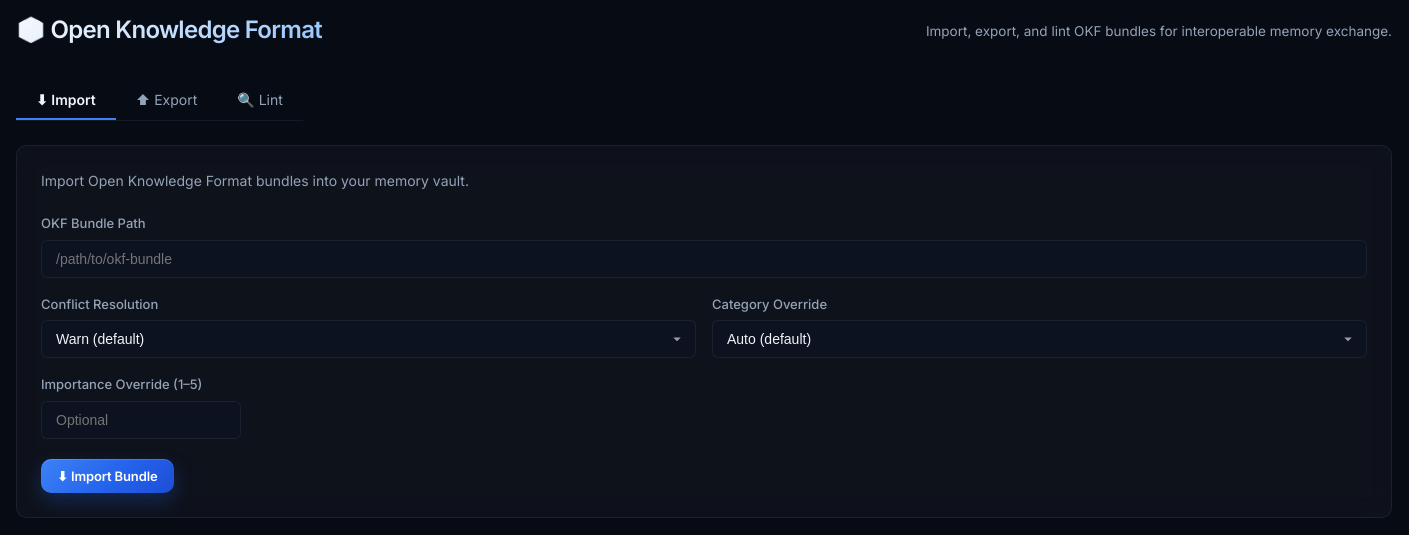
Test: OkfPage › switches to Export tab
Click the button "⬆ Export" at x=167, y=101, box [116, 81, 217, 120]
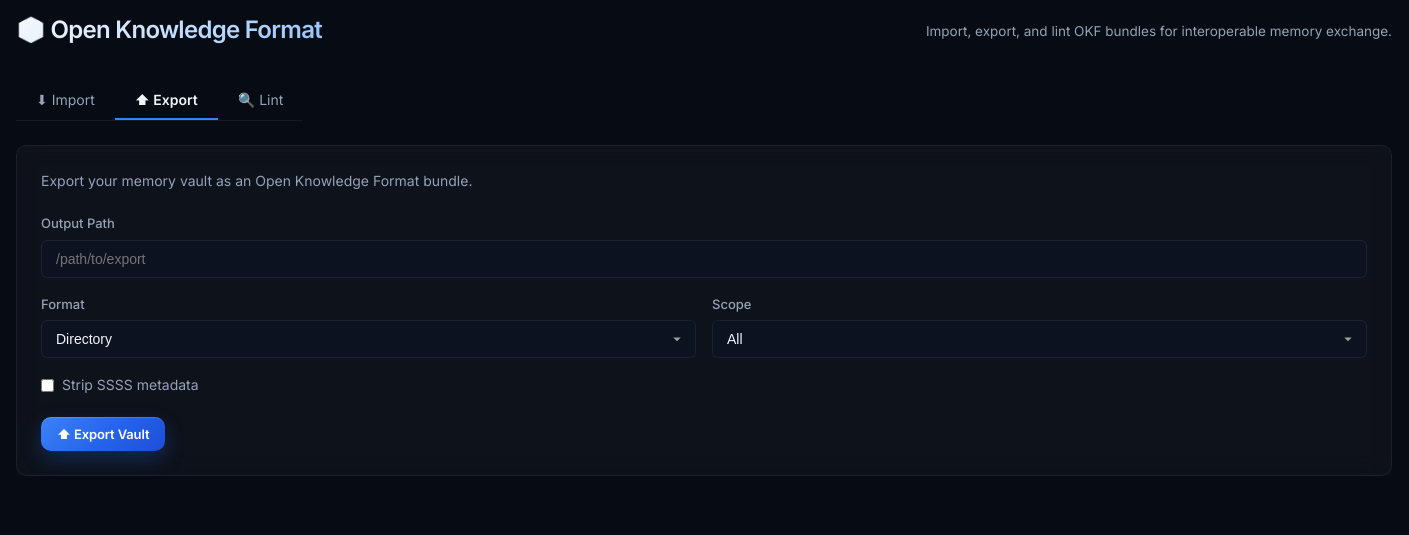
Expected: the text "Export your memory vault as an Open Knowledge Format bundle." is shown, [41, 172, 472, 189]
